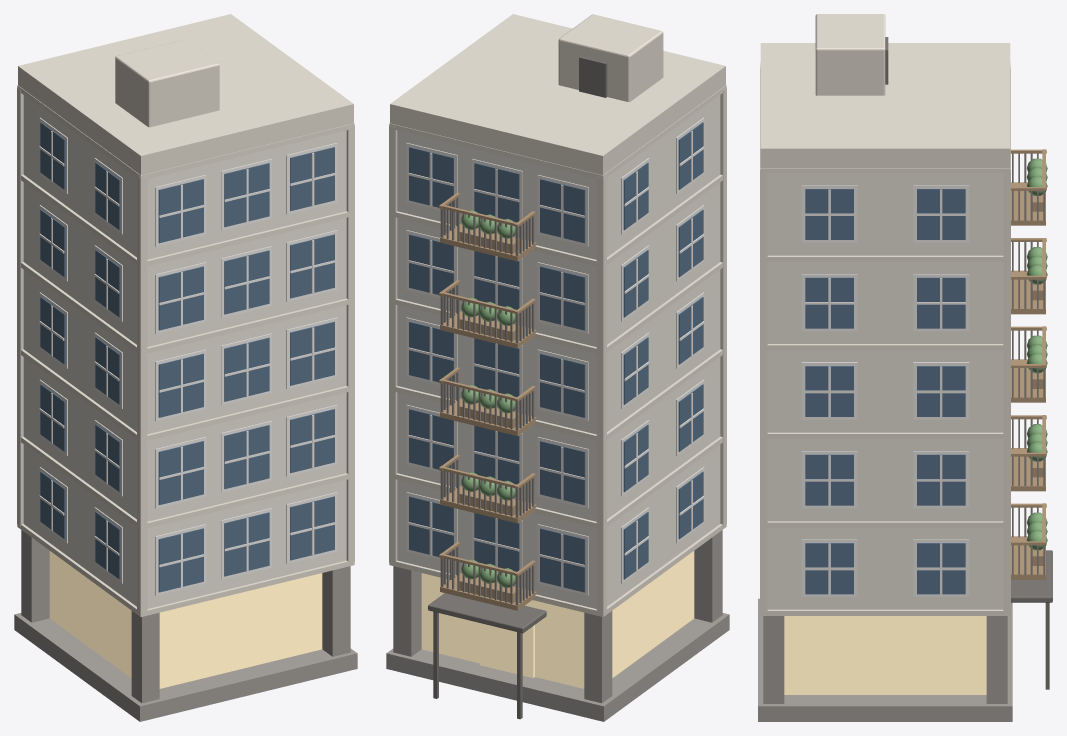
Rendered from menara-2-blender-v1.glb.
The picture shows the model from 3 angles, left to right: view 1: azimuth 30°, elevation 25°; view 2: azimuth 150°, elevation 25°; view 3: azimuth 270°, elevation 25°; orthographic projection.
Parts seen in each view (by area): view 1: tower_body, windows_all, roof_cream, window_frames, lobby_glass, floor_bands, corner_fins, plinth, lobby_piers; view 2: tower_body, windows_all, roof_cream, window_frames, lobby_glass, corner_fins, floor_bands, plinth, balcony_rails, lobby_piers, balcony_slabs, canopy_all (+5 smaller); view 3: tower_body, roof_cream, windows_all, lobby_glass, window_frames, floor_bands, plinth, corner_fins, balcony_slabs, lobby_piers, balcony_rails, bushes (+3 smaller).
Part boxes in pixels (x1,y1,x2,y2): tower_body: [23, 95, 346, 608]; windows_all: [40, 122, 334, 592]; roof_cream: [18, 14, 353, 175]; window_frames: [39, 117, 337, 595]; lobby_glass: [49, 551, 322, 688]; floor_bands: [17, 85, 354, 616]; corner_fins: [17, 87, 354, 614]; plinth: [14, 613, 357, 721]; lobby_piers: [21, 530, 350, 703]; tower_body: [397, 95, 720, 608]; windows_all: [409, 122, 703, 592]; roof_cream: [390, 14, 725, 175]; window_frames: [406, 117, 704, 595]; lobby_glass: [421, 551, 694, 688]; corner_fins: [389, 87, 726, 614]; floor_bands: [389, 85, 726, 616]; plinth: [386, 613, 729, 721]; balcony_rails: [440, 197, 534, 605]; lobby_piers: [393, 530, 722, 703]; balcony_slabs: [440, 224, 536, 610]; canopy_all: [428, 593, 546, 719]; tower_body: [767, 173, 1003, 609]; roof_cream: [760, 14, 1010, 167]; windows_all: [805, 189, 965, 594]; lobby_glass: [784, 616, 986, 694]; window_frames: [801, 185, 969, 596]; floor_bands: [760, 62, 1010, 615]; plinth: [758, 598, 1012, 721]; corner_fins: [760, 65, 1010, 613]; balcony_slabs: [1011, 182, 1045, 579]; lobby_piers: [763, 616, 1007, 703]; balcony_rails: [1012, 153, 1045, 574]; bushes: [1026, 158, 1047, 550].
Bounding box in the file's own units: 7.3 × 19.59 × 8.45.
